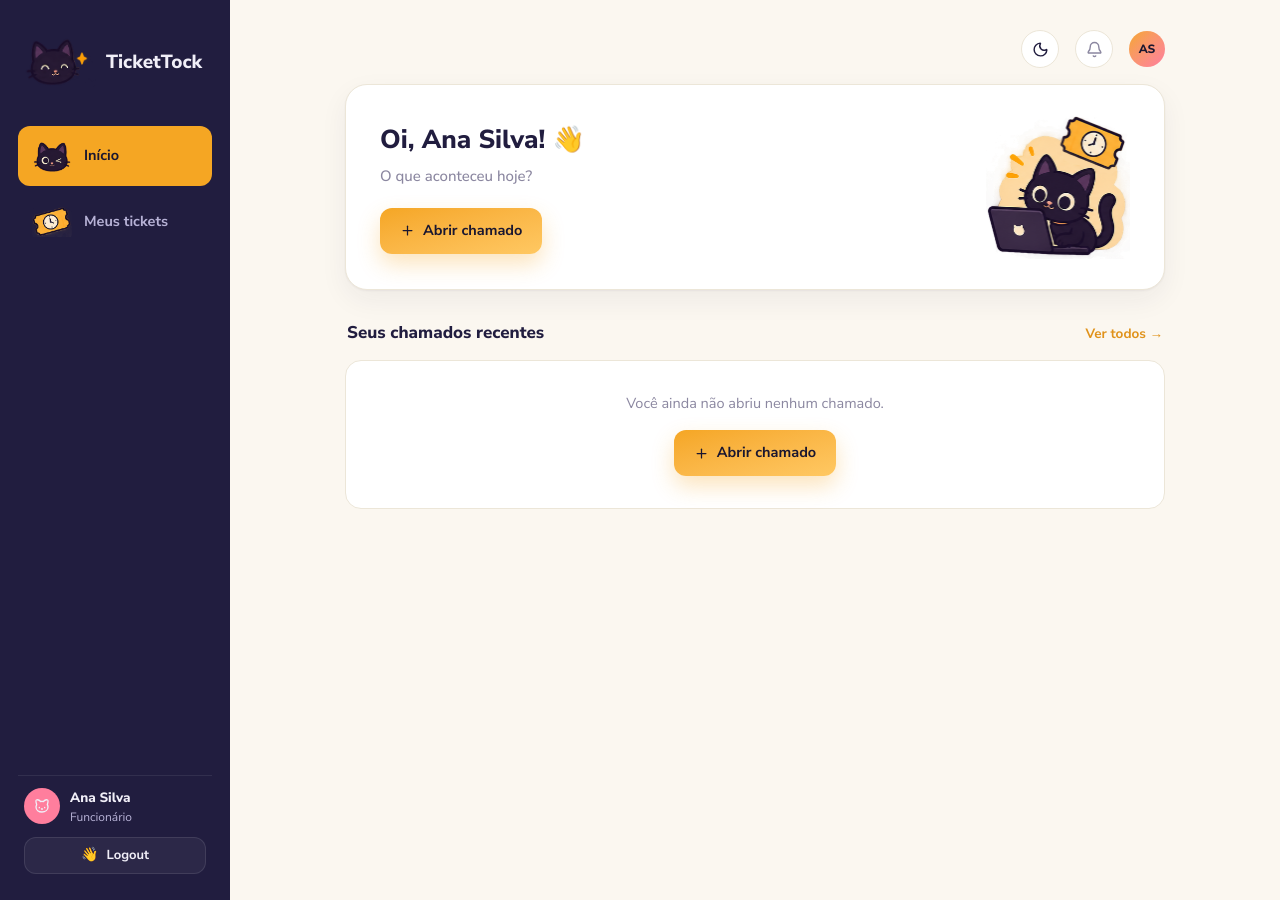
Test: HomePage › opens the new-ticket modal from the header button
Expected: the text "Você ainda não abriu nenhum chamado." is shown, 626,392 -> 884,412
Click the button "Abrir chamado" below "O que aconteceu hoje?".
click(461, 231)  # box 380,208 -> 542,254
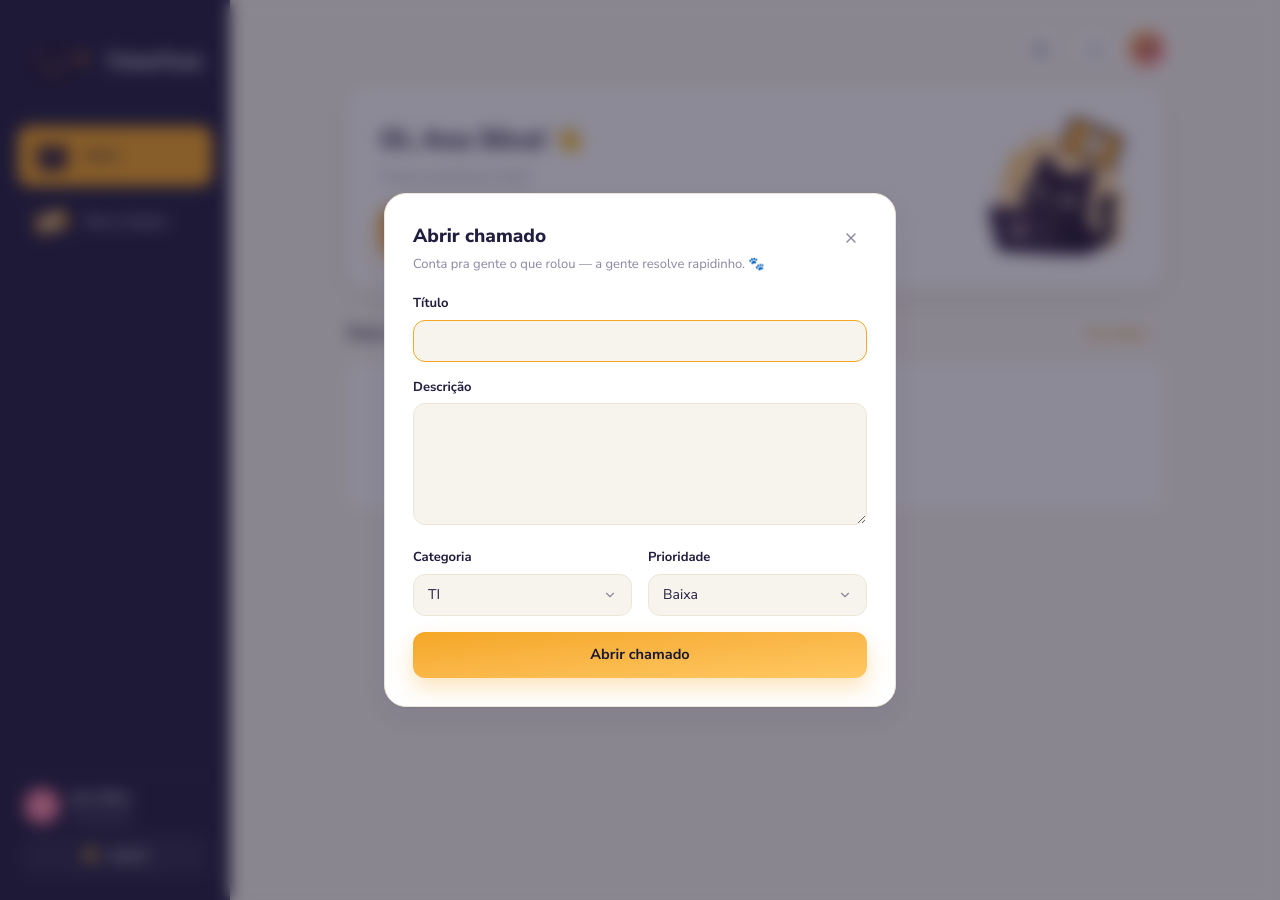
Expected: the heading "Abrir chamado" is shown, 413,223 -> 546,249
